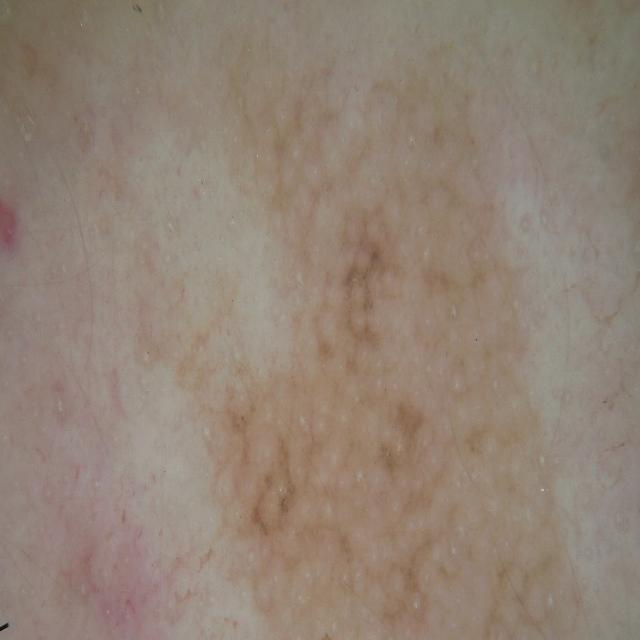Melanoma: (218, 124, 584, 640)
